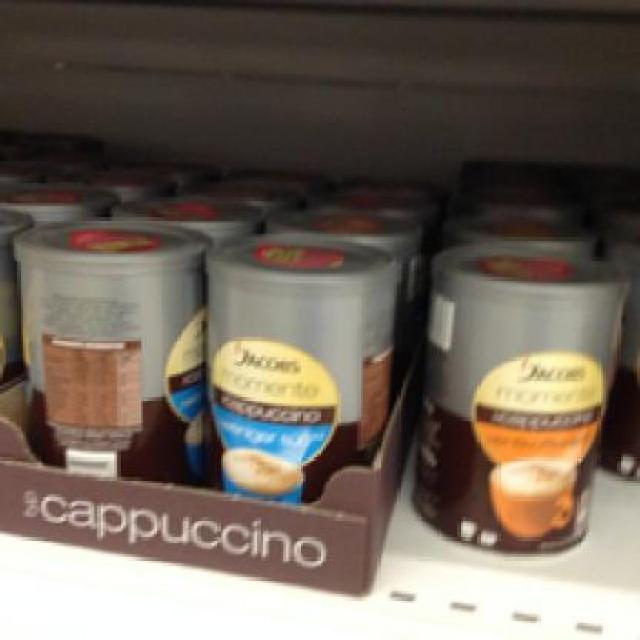Coffee: (400, 239, 626, 552), (197, 231, 400, 500), (3, 214, 203, 480)
